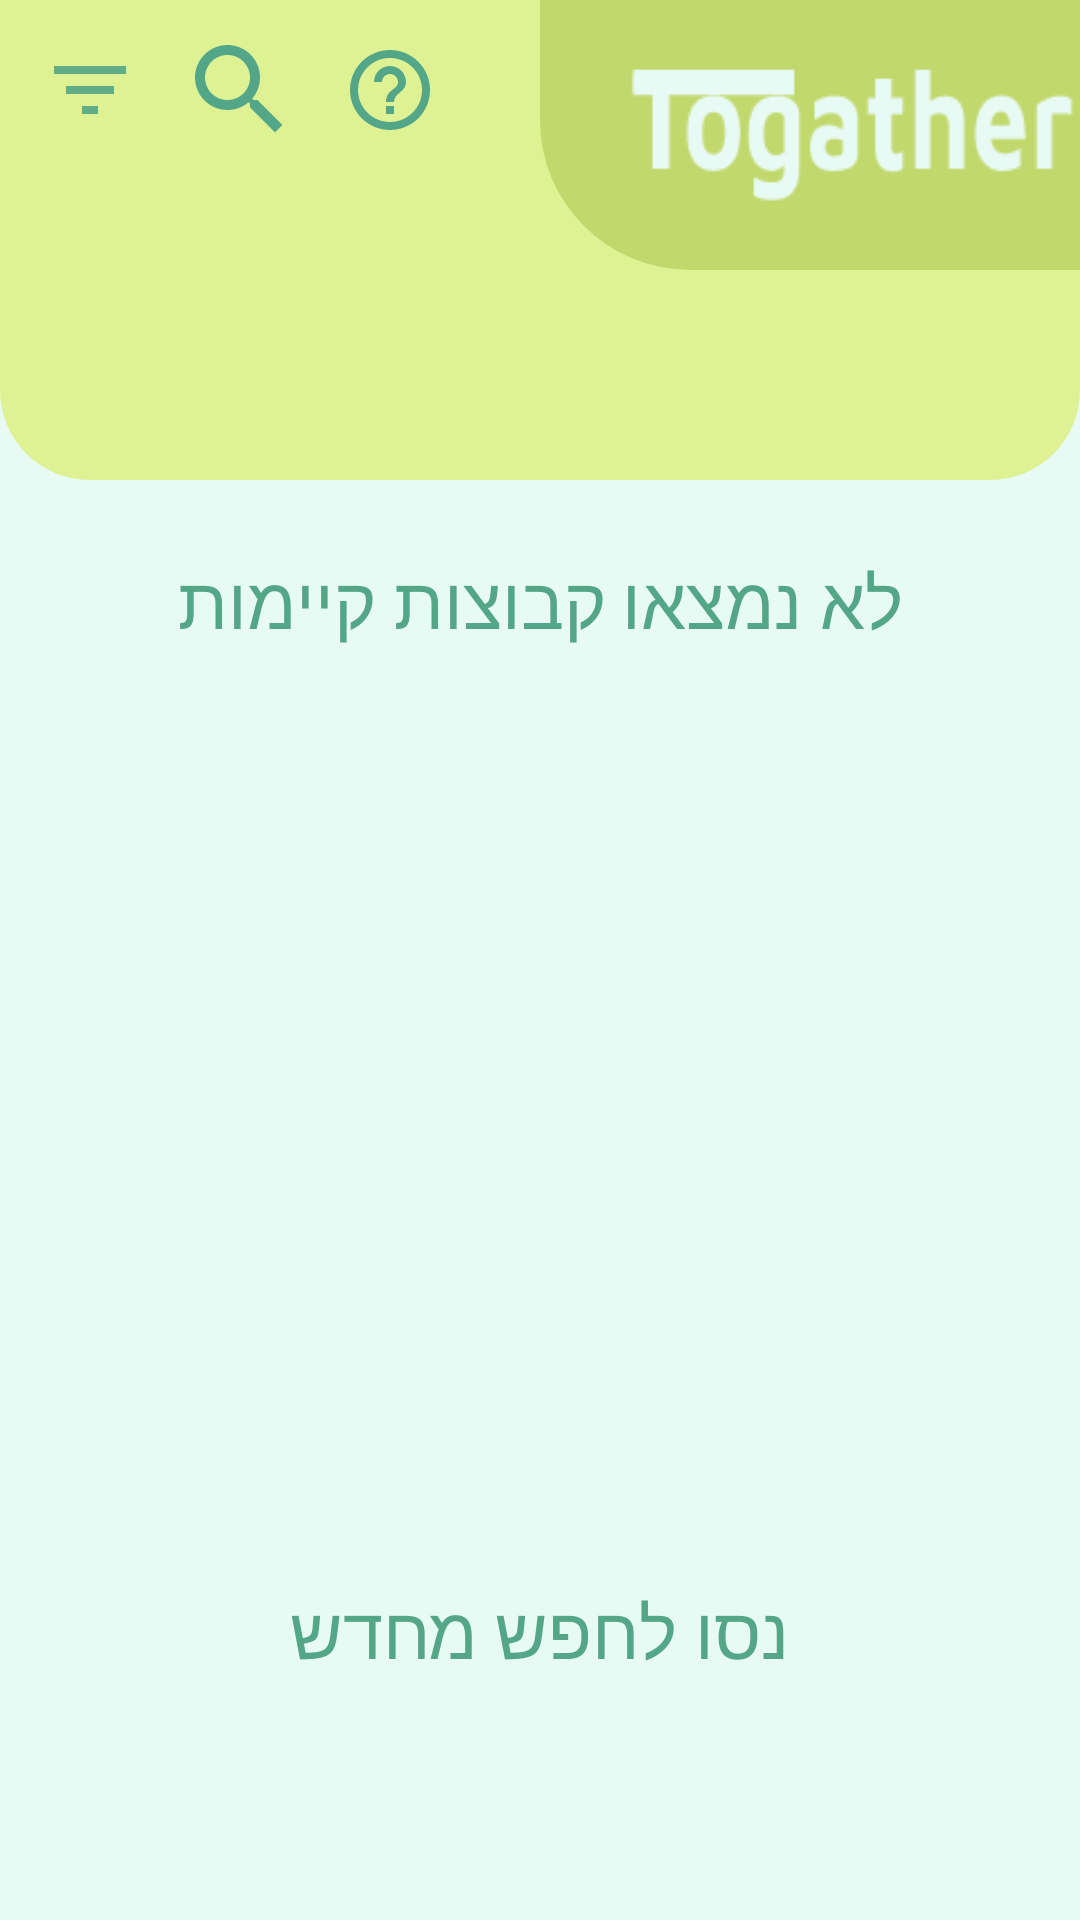

Point at icon controls on the screen. Image size 1080*1920, points as (x,y).
filter list: (90,90)
help: (390,90)
search: (238,88)
